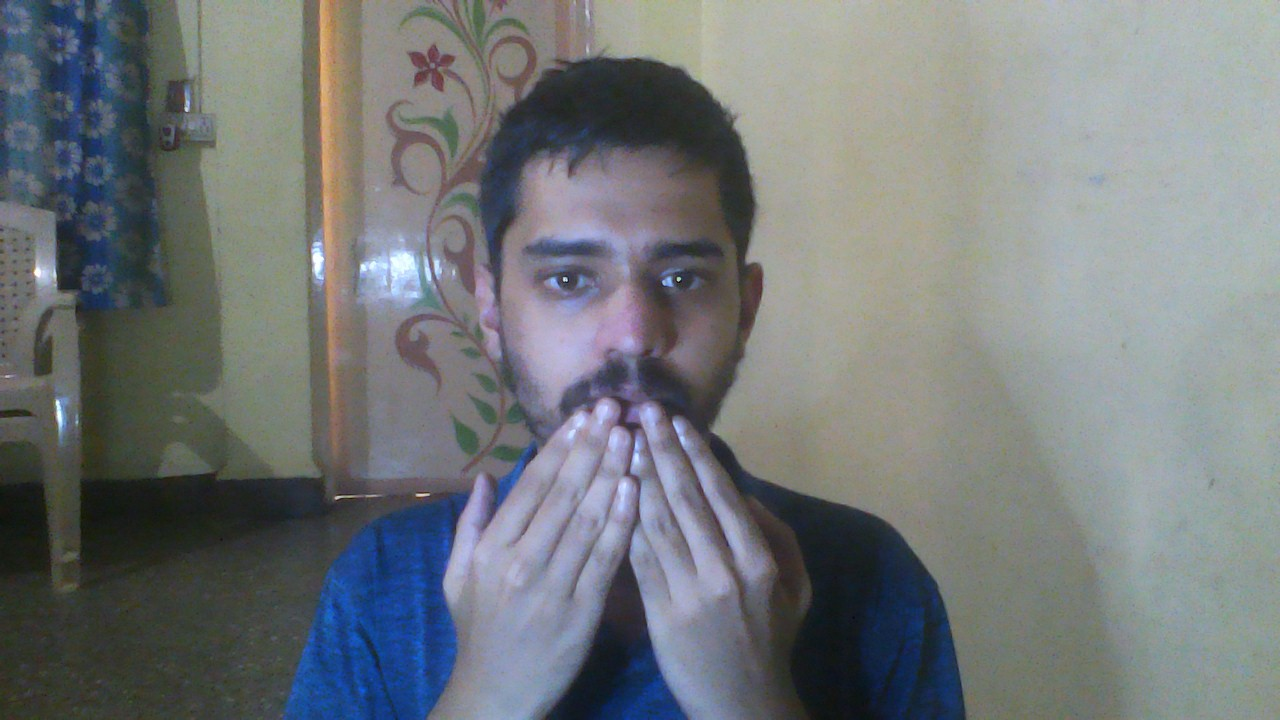thanks: (425, 375, 851, 720)
